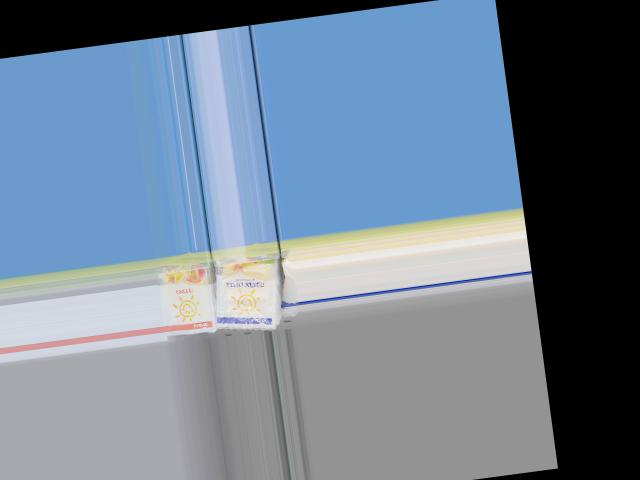cheese: (152, 250, 218, 342)
